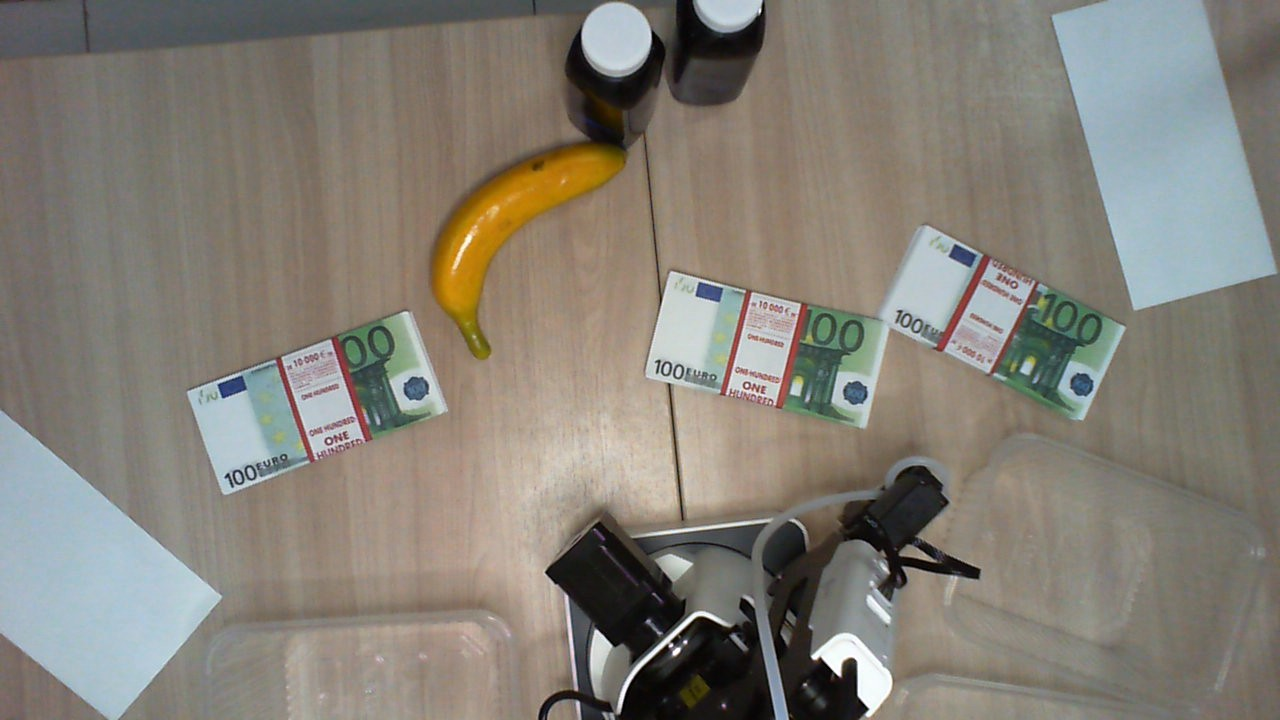banana: (430, 141, 631, 361)
bottle: (567, 2, 666, 102), (673, 1, 767, 51)
convert: (1050, 2, 1280, 311), (1, 407, 222, 719)
money: (186, 309, 448, 496), (883, 224, 1127, 423), (643, 270, 889, 431)
